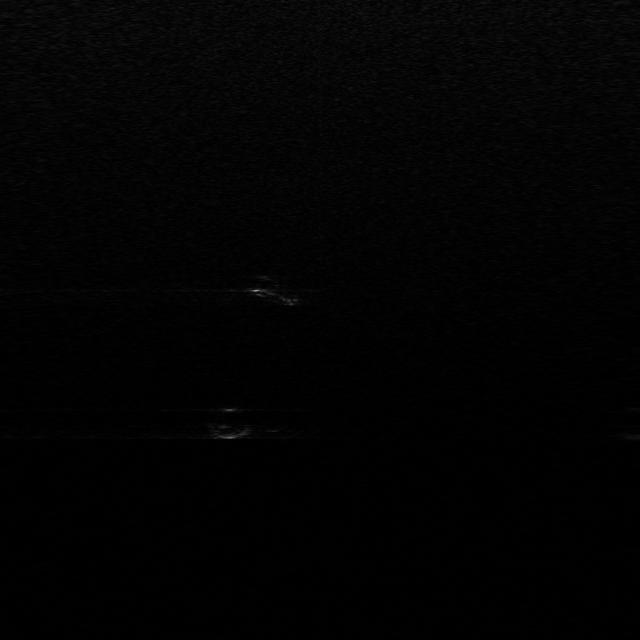ball: (202, 403, 258, 439)
tyre: (244, 271, 308, 308)
